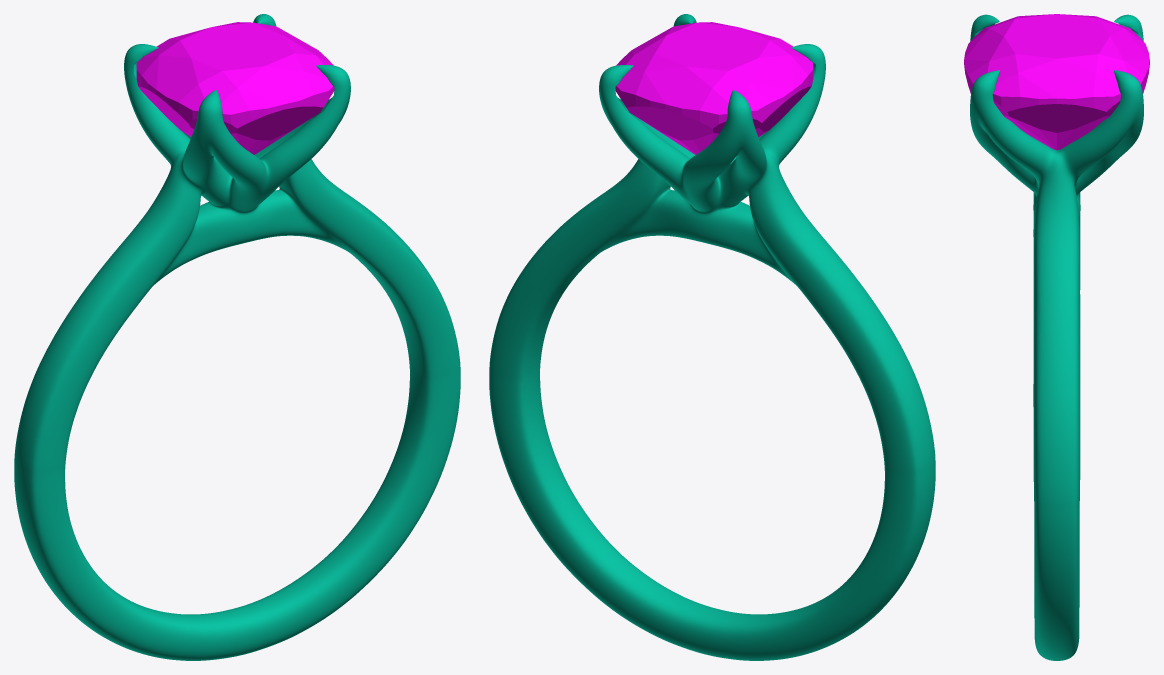
The model's file is BE1761_CU_200ct_RENDER.glb.
3 renders of one model, left to right at view 1: azimuth 30°, elevation 25°; view 2: azimuth 150°, elevation 25°; view 3: azimuth 270°, elevation 25°, orthographic.
Parts seen in each view (by area): view 1: Metal 01, CS_Diamond_Cushion; view 2: Metal 01, CS_Diamond_Cushion; view 3: Metal 01, CS_Diamond_Cushion.
Boxes of the visible parts, left/top/right/bottom form: Metal 01: left=14, top=14, right=460, bottom=660; CS_Diamond_Cushion: left=136, top=22, right=334, bottom=154; Metal 01: left=489, top=14, right=935, bottom=660; CS_Diamond_Cushion: left=615, top=22, right=813, bottom=154; Metal 01: left=970, top=14, right=1143, bottom=660; CS_Diamond_Cushion: left=964, top=14, right=1149, bottom=150.
Size of the model in its own units: 20.11 by 26.79 by 7.5.
